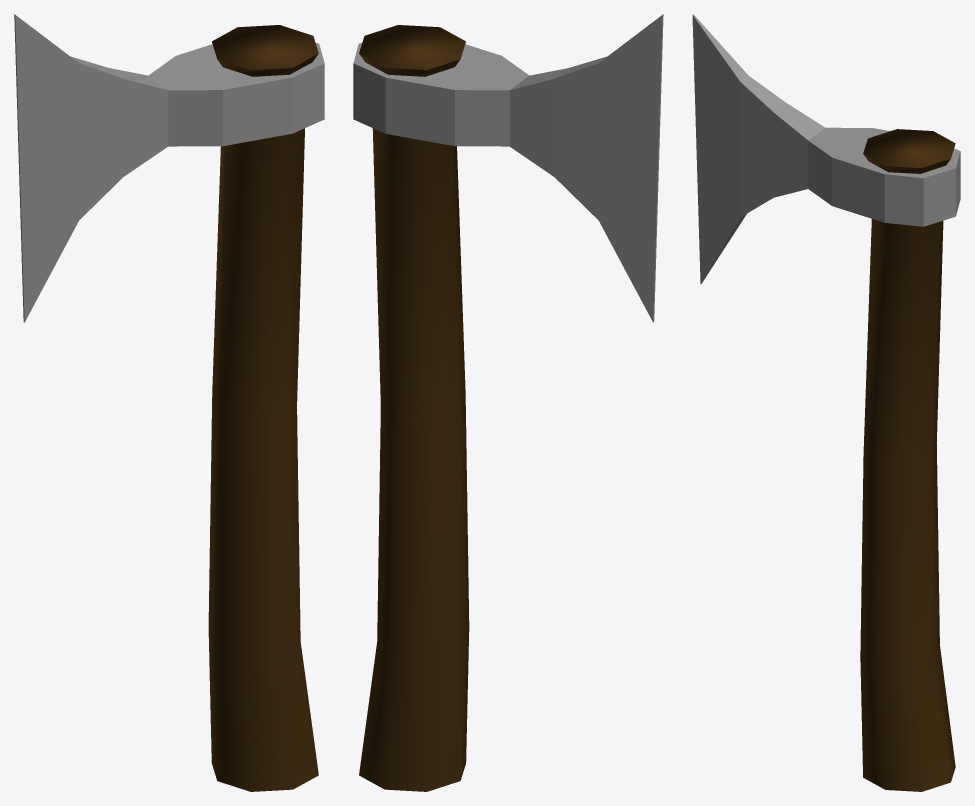
The model's file is Axe (3).fbx.
The picture shows the model from 3 angles, left to right: view 1: azimuth 30°, elevation 25°; view 2: azimuth 150°, elevation 25°; view 3: azimuth 330°, elevation 25°; orthographic projection. The views are drawn at different scales.
Visible parts, largest first — view 1: Axe, Axe_1, Axe_2; view 2: Axe, Axe_1, Axe_2; view 3: Axe, Axe_1, Axe_2.
Part boxes in pixels (x1,y1,x2,y2): Axe: (208, 25, 318, 791); Axe_1: (14, 14, 168, 322); Axe_2: (148, 43, 324, 146); Axe: (359, 25, 469, 791); Axe_1: (509, 14, 663, 322); Axe_2: (353, 42, 529, 146); Axe: (860, 129, 955, 791); Axe_1: (692, 14, 825, 284); Axe_2: (808, 127, 960, 226).
Bounding box in the file's own units: 0.4862 × 0.155 × 1.25.
